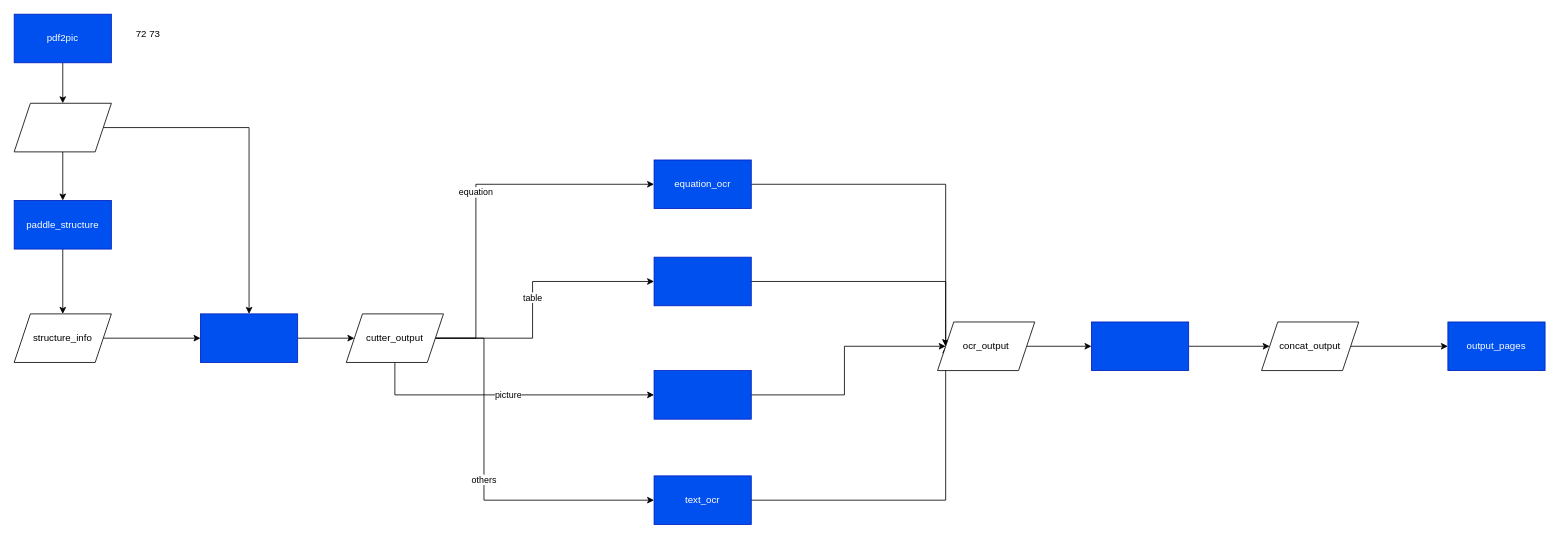
The diagram is 1559 pixels wide and 539 high, and some of its shapes have lost their labels. The shapes that lost their labels are listed below. From the top down, each one's box as (x1, y1, x2, y2) in pixels, then its label:
(13, 102, 111, 152): pdf2pic_output
(653, 256, 751, 306): table_ocr
(200, 313, 298, 362): png_cut
(1091, 321, 1189, 371): text_concat
(653, 370, 751, 419): picture2text （暂时废弃）
